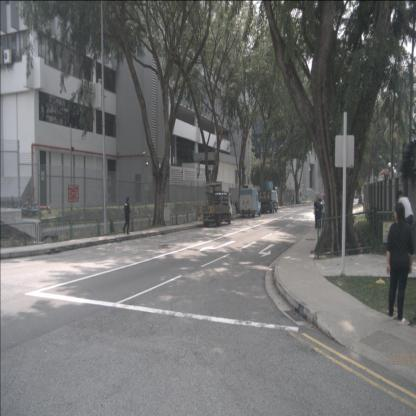human-pedestrian-adult: (385, 202, 414, 326), (396, 190, 414, 254), (123, 196, 131, 234), (313, 196, 320, 229), (317, 198, 323, 230), (322, 195, 327, 228), (235, 199, 239, 215), (291, 195, 293, 206)
vehicle-truck: (198, 182, 233, 226), (239, 187, 261, 218), (258, 181, 279, 213)
